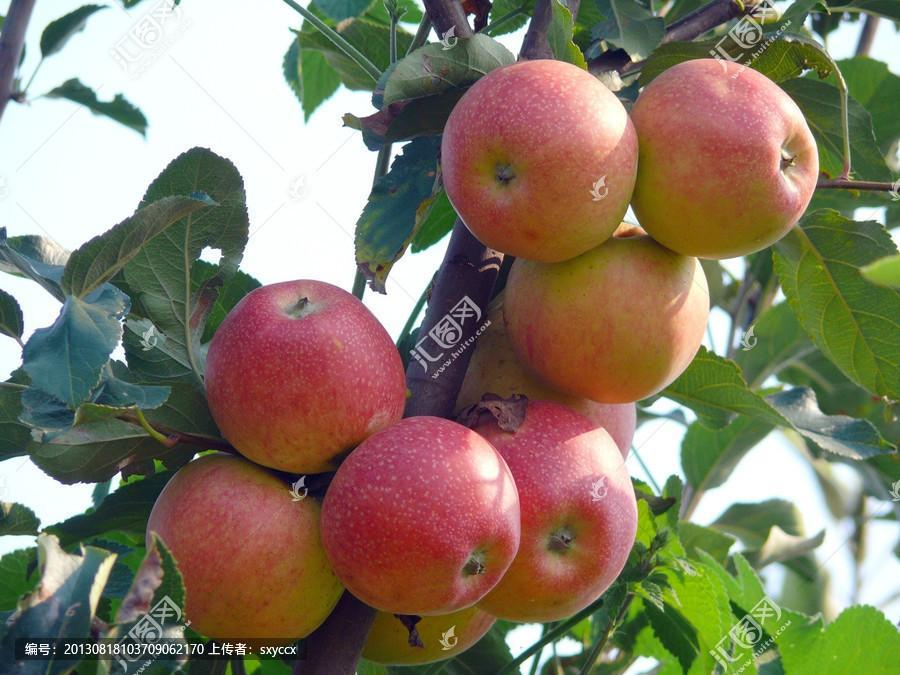apple: (620, 58, 821, 259), (439, 59, 635, 261), (322, 417, 518, 614), (205, 282, 412, 467), (144, 452, 339, 647), (504, 225, 711, 403), (474, 405, 639, 621)
